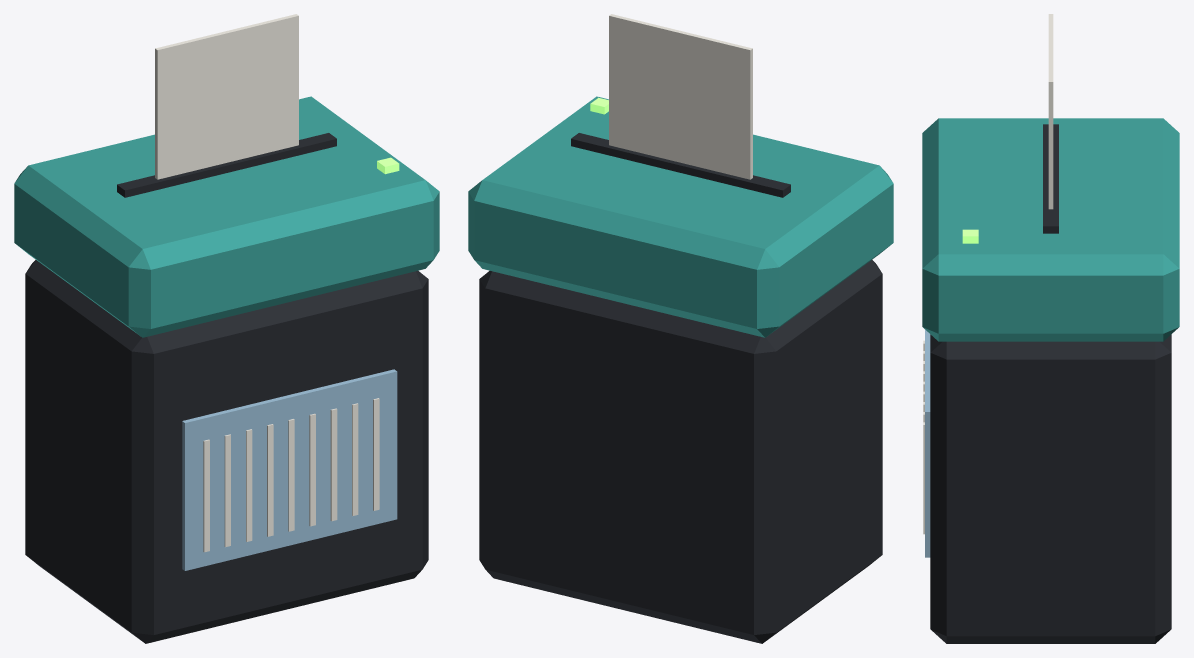
File: shredder_2.glb
3 renders of one model, left to right at view 1: azimuth 30°, elevation 25°; view 2: azimuth 150°, elevation 25°; view 3: azimuth 270°, elevation 25°, orthographic.
Visible parts, largest first — view 1: shredder_2_mesh; view 2: shredder_2_mesh; view 3: shredder_2_mesh.
Part boxes in pixels (x1,y1,x2,y2): shredder_2_mesh: (14,14,439,643); shredder_2_mesh: (468,14,893,643); shredder_2_mesh: (922,14,1179,643).
Size of the model in its own units: 0.44 by 0.73 by 0.32.
